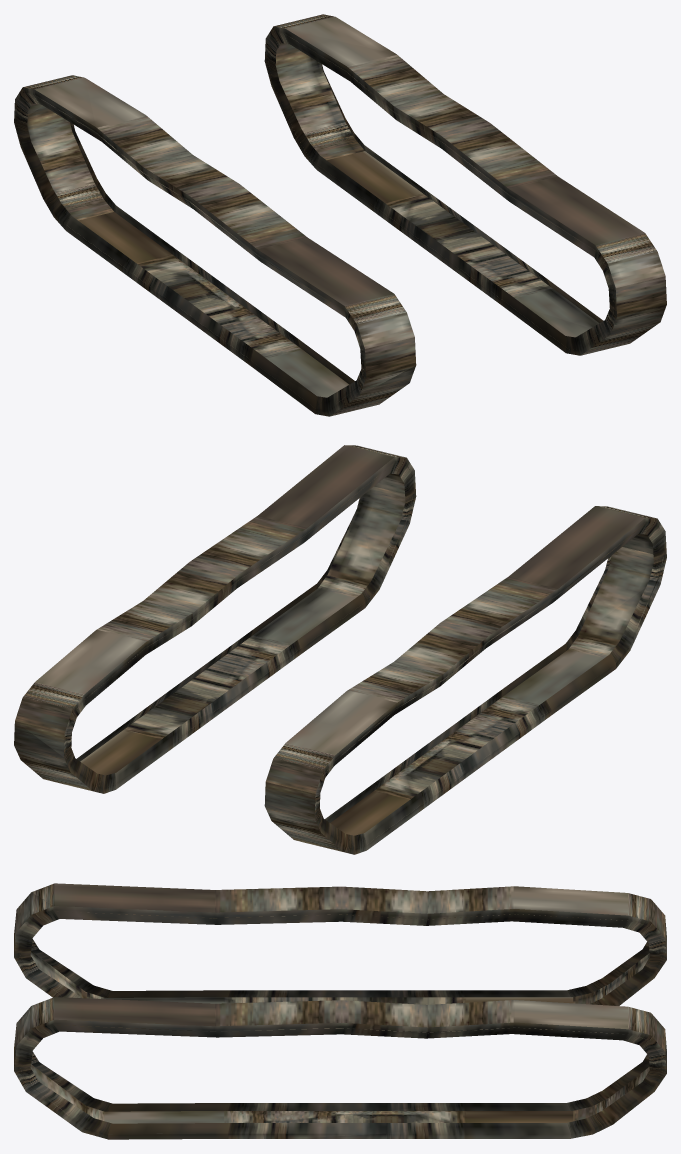
Rendered from sherman_hull_m8.obj.
3 renders of one model, top to bottom at view 1: azimuth 30°, elevation 25°; view 2: azimuth 150°, elevation 25°; view 3: azimuth 270°, elevation 25°, orthographic. The views are drawn at different scales.
Parts seen in each view (by area): view 1: sherman_hull_m8; view 2: sherman_hull_m8; view 3: sherman_hull_m8.
Boxes of the visible parts, <box> form: sherman_hull_m8: <box>14,14,666,416</box>; sherman_hull_m8: <box>14,445,666,854</box>; sherman_hull_m8: <box>14,883,666,1139</box>.
Bounding box in the file's own units: 2.7 × 1.11 × 5.48.
Materials: 1 (1 with a texture image).
